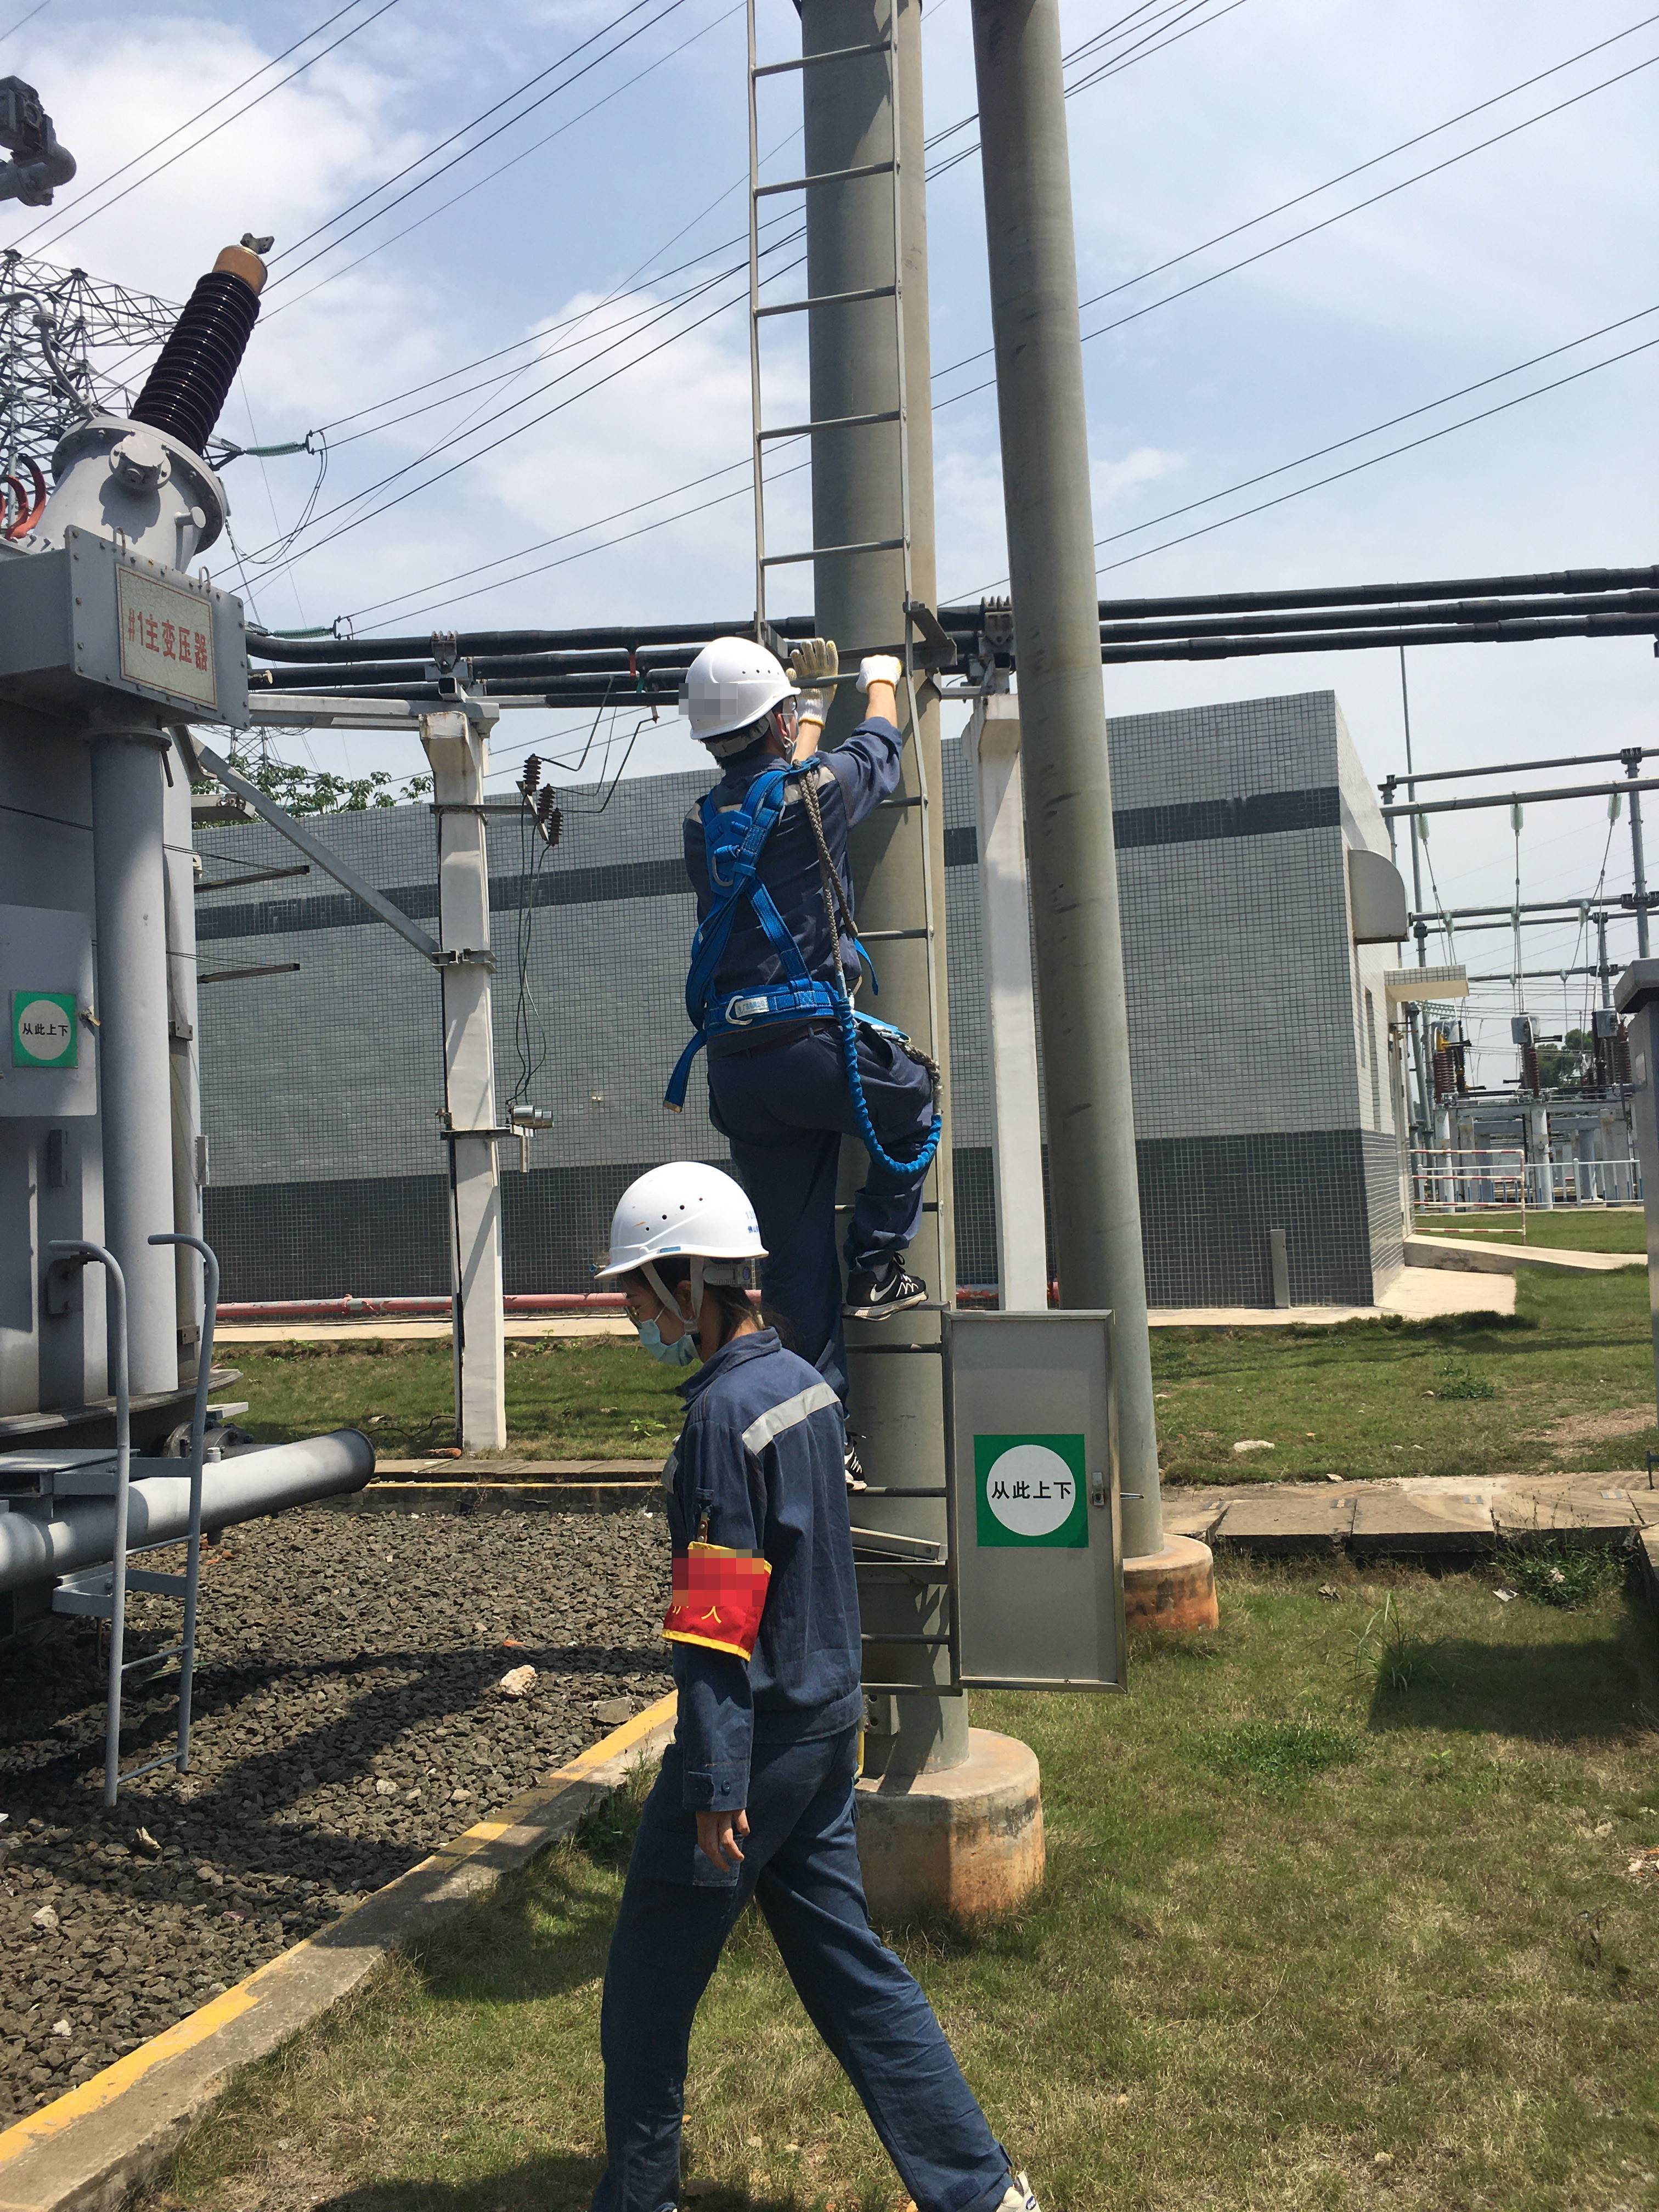downsuit: (627, 1750, 931, 2181), (730, 1015, 931, 1280)
upsuit: (662, 1359, 859, 1728), (678, 772, 843, 991)
wrongbottom: (854, 688, 904, 765)
